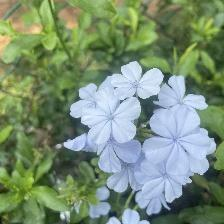chitrak: (143, 108, 213, 176), (82, 91, 140, 144), (98, 144, 152, 193), (143, 155, 195, 204), (113, 59, 165, 102), (156, 73, 209, 109), (86, 186, 112, 218), (105, 209, 152, 224)
